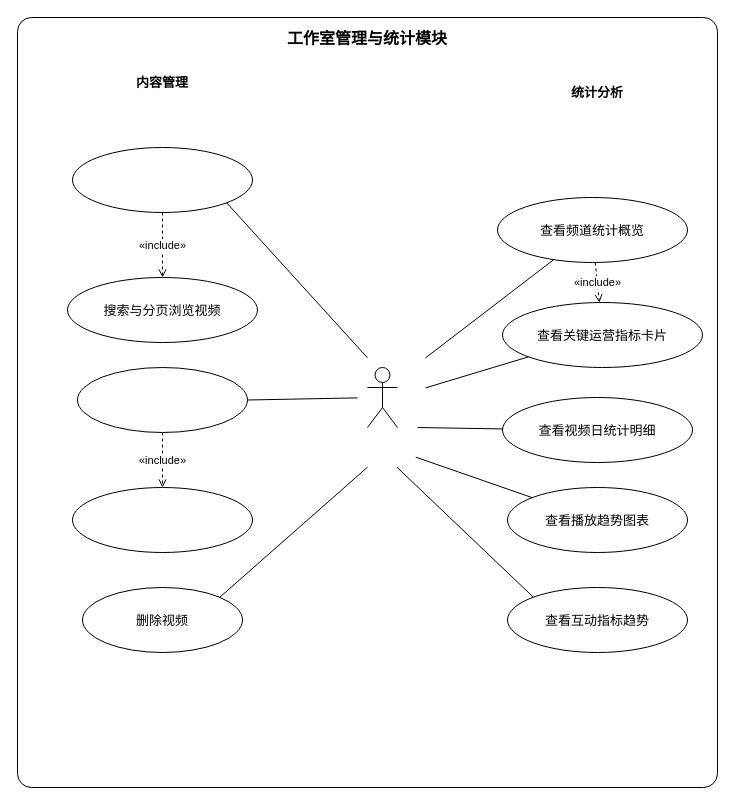
Some shapes in this 735 by 805 pixel diagram are drawn without their labels. The centre of each missing label's shape, as x and y in pixels:
"创作者" belongs at [382,397].
"查看我的视频列表" belongs at [162,179].
"编辑视频信息" belongs at [162,399].
"设置视频可见性" belongs at [162,519].
